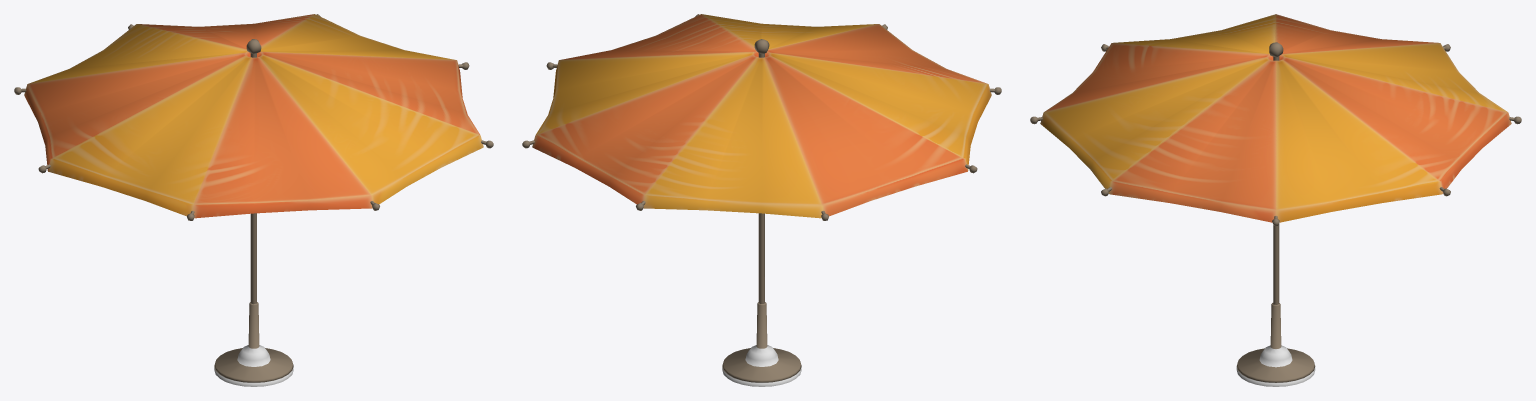
The model's file is Parasol.glb.
3 renders of one model, left to right at view 1: azimuth 30°, elevation 25°; view 2: azimuth 150°, elevation 25°; view 3: azimuth 270°, elevation 25°, orthographic.
Visible parts, largest first — view 1: parasolTop_Low.001, Cylinder.042; view 2: parasolTop_Low.001, Cylinder.042; view 3: parasolTop_Low.001, Cylinder.042.
Boxes of the visible parts, x1,y1,x2,y2 form: parasolTop_Low.001: [24, 14, 483, 218]; Cylinder.042: [14, 14, 493, 386]; parasolTop_Low.001: [532, 14, 991, 218]; Cylinder.042: [522, 14, 1001, 386]; parasolTop_Low.001: [1040, 14, 1511, 222]; Cylinder.042: [1030, 42, 1521, 386].
Size of the model in its own units: 4.92 by 3.61 by 4.92.
7 materials, 3 textured.
